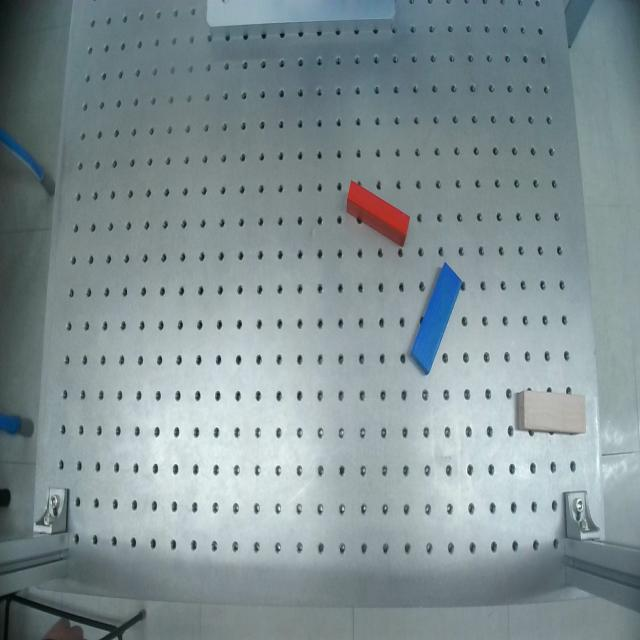blue: (405, 262, 467, 377)
red: (335, 180, 419, 248)
wood: (516, 390, 589, 436)
